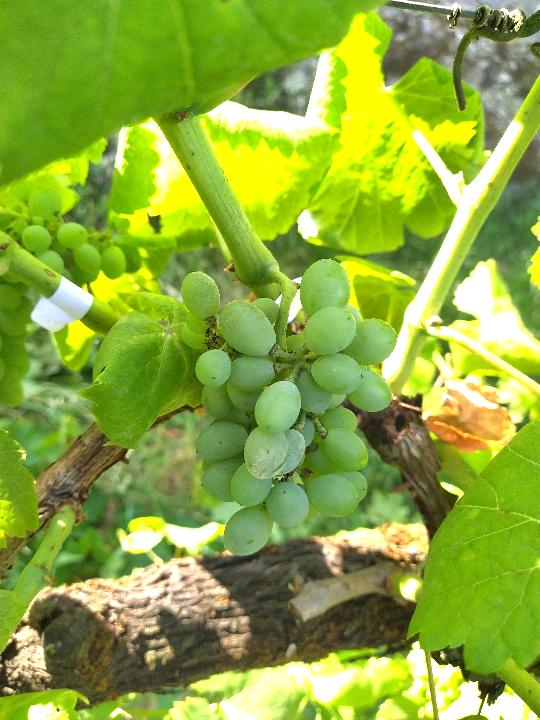grape: (177, 258, 400, 561)
